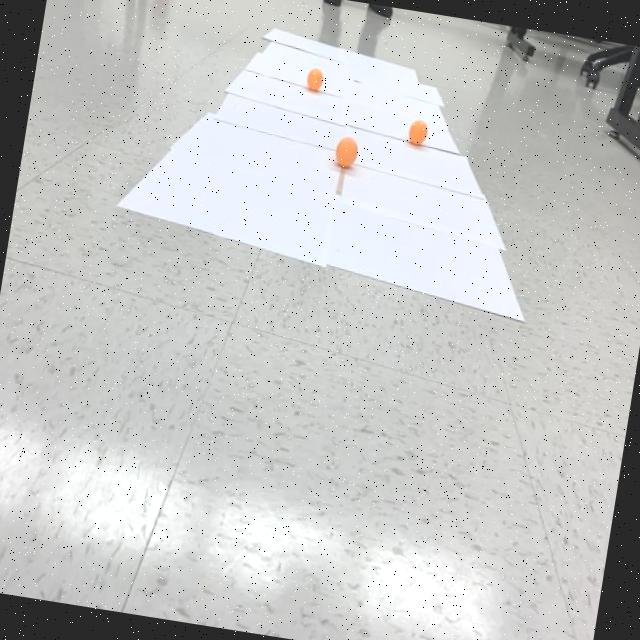ping-pong-ball: (331, 132, 362, 172), (405, 116, 432, 150), (302, 64, 328, 95)
